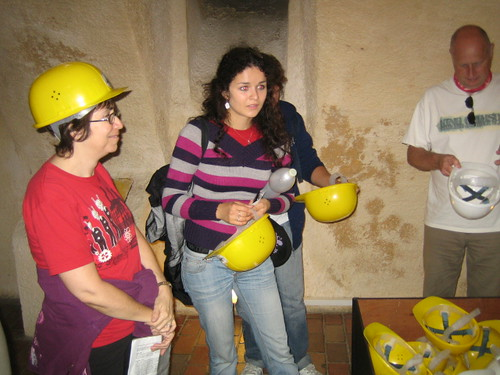hardhat: (206, 208, 282, 277), (292, 171, 370, 234), (414, 291, 483, 358), (441, 161, 499, 226), (358, 319, 415, 375), (454, 317, 500, 370)
person hardhat: (24, 58, 192, 375)
